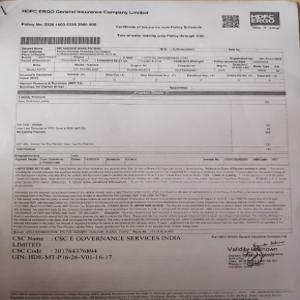image: (249, 9, 282, 28)
table: (15, 94, 291, 151), (16, 46, 285, 92), (11, 152, 291, 166)
text: (13, 190, 291, 233), (11, 166, 288, 188), (9, 234, 183, 264), (18, 6, 149, 18), (114, 20, 207, 30), (17, 20, 99, 28)
